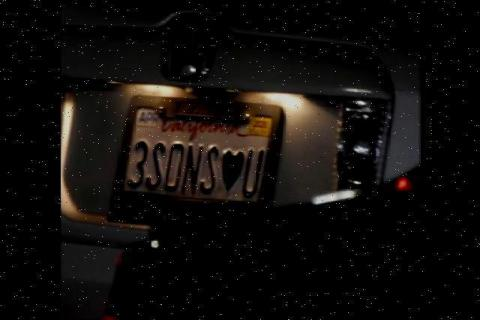LicensePlate: (108, 95, 283, 234)
